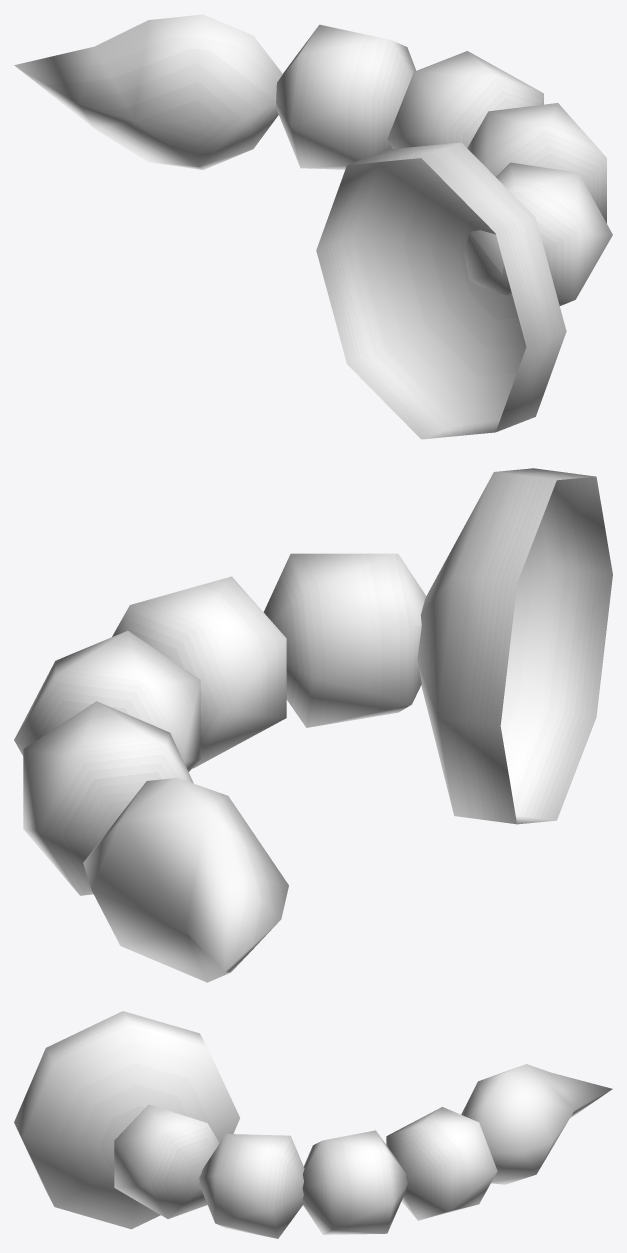
The model's file is hlmt_pigtail.dae.
3 renders of one model, top to bottom at view 1: azimuth 30°, elevation 25°; view 2: azimuth 150°, elevation 25°; view 3: azimuth 270°, elevation 25°, orthographic. The views are drawn at different scales.
Parts seen in each view (by area): view 1: hlmt_pigtail; view 2: hlmt_pigtail; view 3: hlmt_pigtail.
Part boxes in pixels (x1,y1,x2,y2): hlmt_pigtail: (14, 14, 612, 439); hlmt_pigtail: (14, 468, 612, 982); hlmt_pigtail: (14, 1011, 612, 1238).
Size of the model in its own units: 10.87 by 8.55 by 22.97.
1 material, 1 textured.
